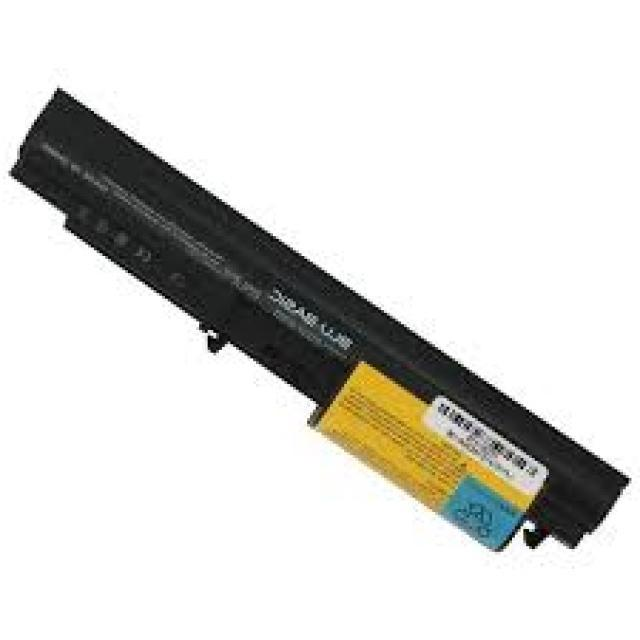battery: (0, 83, 638, 558)
